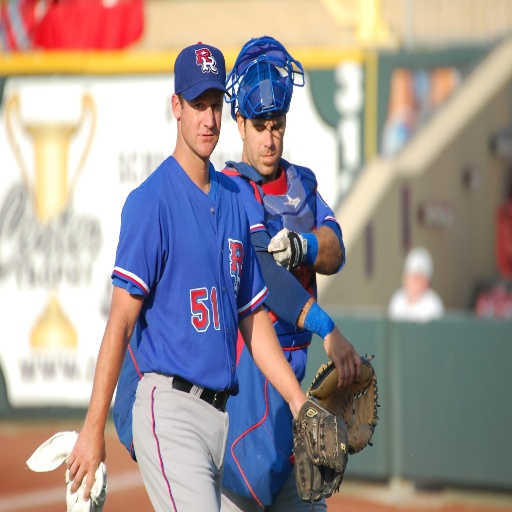hand: (55, 320, 115, 494), (322, 324, 362, 390), (267, 225, 307, 270), (288, 388, 309, 418)
